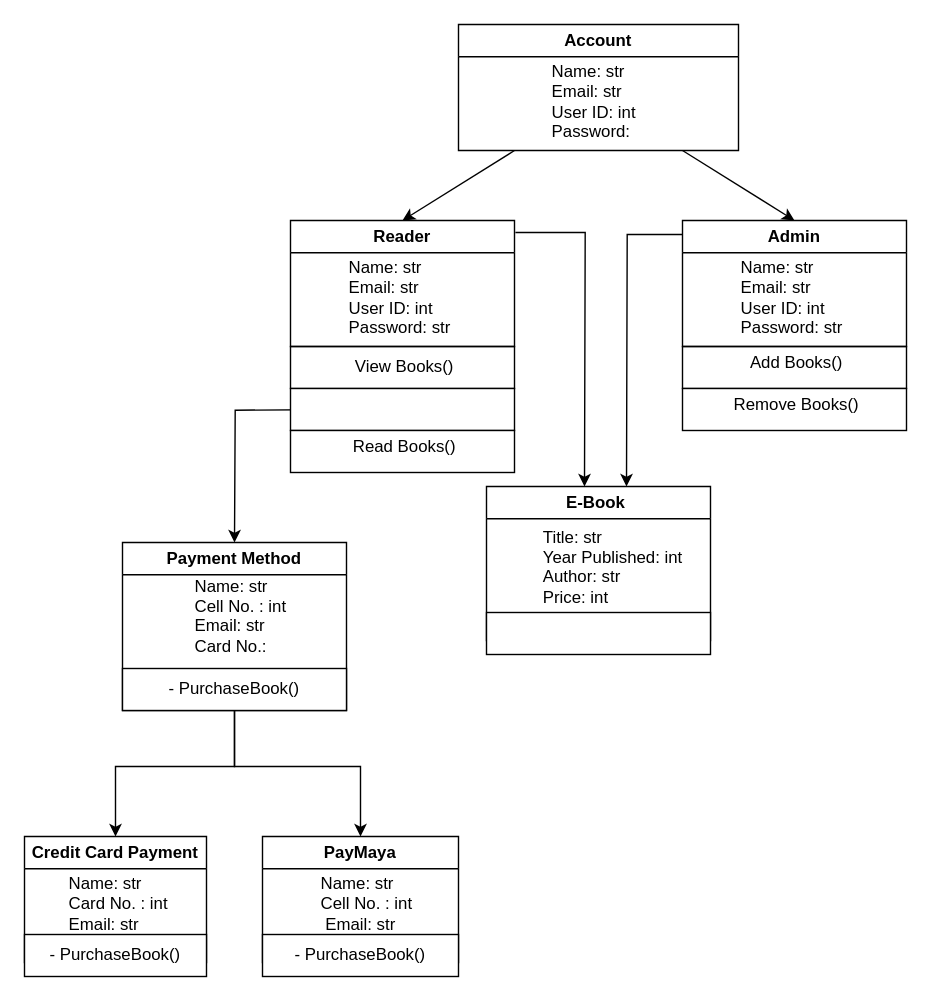
The diagram is 931 pixels wide and 1001 high, and some of its shapes have lost their labels. The shapes that lost their labels are listed below. From the top down, each one's centre as x and y in pixels, then its label:
At pixel 401 408: "Buy Books()".
At pixel 597 632: "- OpenBook()".
